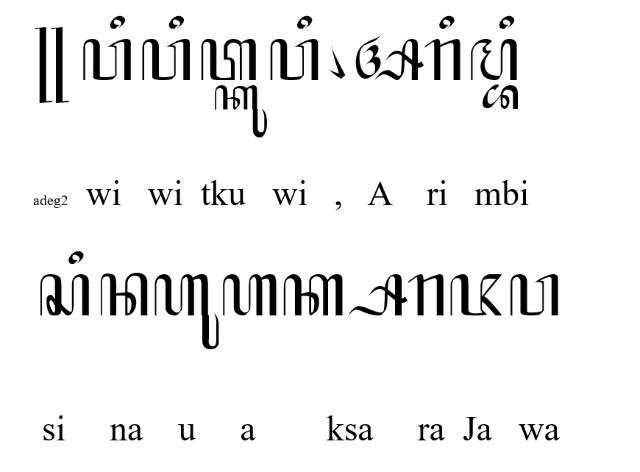A: (356, 35, 424, 81)
_b: (482, 84, 518, 108)
_s: (348, 274, 408, 316)
adeg2: (34, 26, 68, 104)
h: (222, 274, 278, 316)
hu: (154, 274, 220, 350)
i: (168, 15, 184, 29), (439, 15, 455, 29), (498, 15, 514, 29), (68, 251, 84, 265), (298, 15, 312, 29), (109, 16, 125, 28)
j: (450, 274, 502, 316)
k: (283, 274, 343, 316)
kom: (328, 45, 346, 79)
ku: (214, 86, 268, 138)
m: (470, 38, 518, 81)
n: (100, 272, 148, 316)
r: (424, 38, 462, 81), (408, 273, 444, 317)
s: (40, 274, 89, 316)
t: (200, 38, 256, 80)
w: (270, 37, 318, 81), (82, 39, 132, 81), (510, 274, 560, 316), (142, 39, 190, 81)
